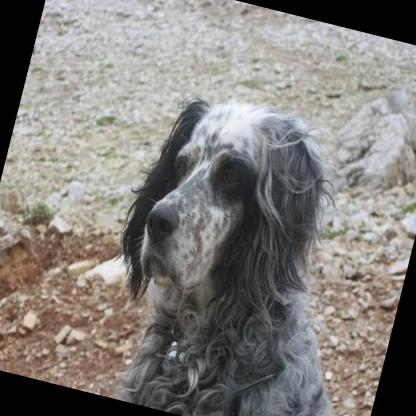English_setter: (78, 73, 406, 416)
